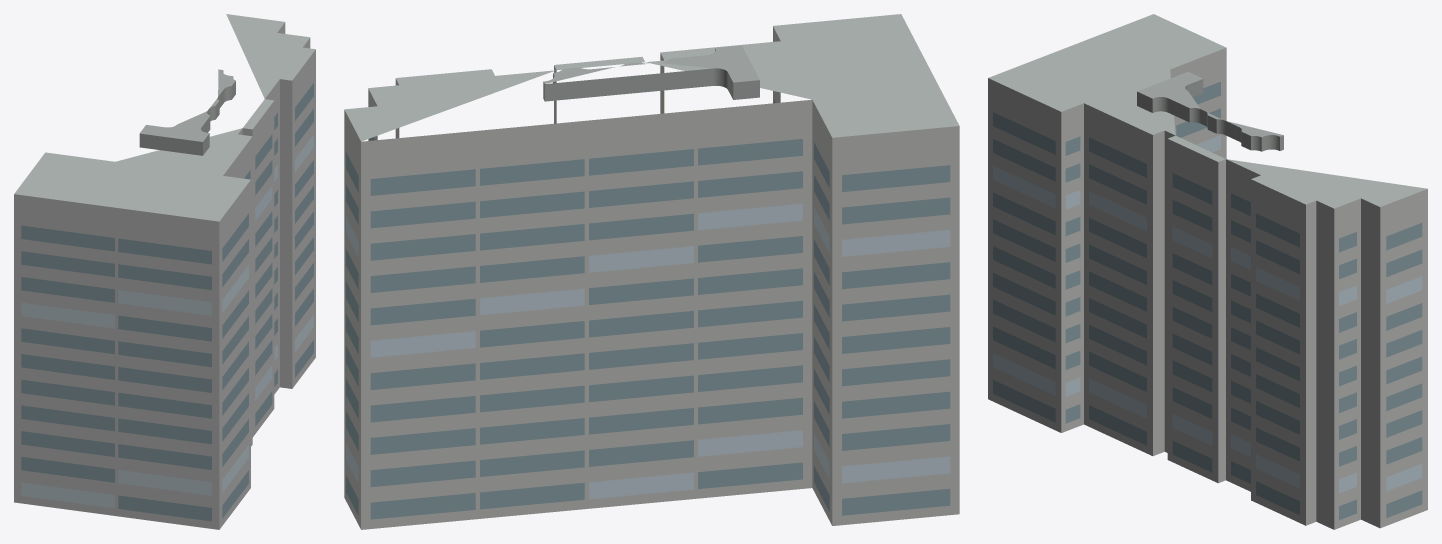
Rendered from fallback-gaepo-xi-presidence-432.glb.
3 views of the same model, side by side, from view 1: azimuth 30°, elevation 25°; view 2: azimuth 150°, elevation 25°; view 3: azimuth 270°, elevation 25° (orthographic). The views are drawn at different scales.
Parts seen in each view (by area): view 1: fallback-gaepo-xi-presidence-432; view 2: fallback-gaepo-xi-presidence-432; view 3: fallback-gaepo-xi-presidence-432.
Boxes of the visible parts, x1,y1,x2,y2 form: fallback-gaepo-xi-presidence-432: (14, 14, 315, 529); fallback-gaepo-xi-presidence-432: (344, 14, 959, 529); fallback-gaepo-xi-presidence-432: (988, 14, 1427, 529).
Size of the model in its own units: 47.58 by 38.25 by 45.42.
